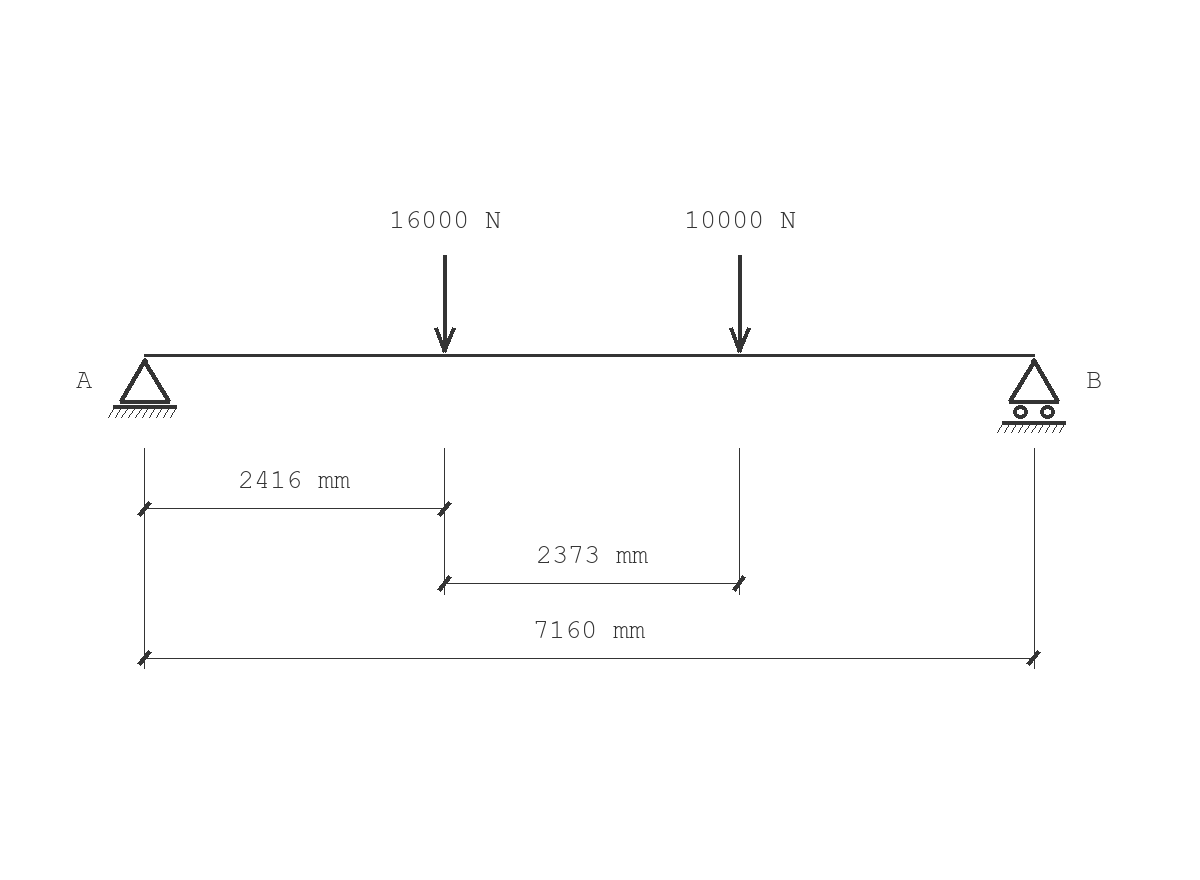pin_support: (108, 358, 177, 418)
point_load: (434, 255, 456, 353), (729, 255, 751, 353)
roller_support: (997, 358, 1066, 433)
